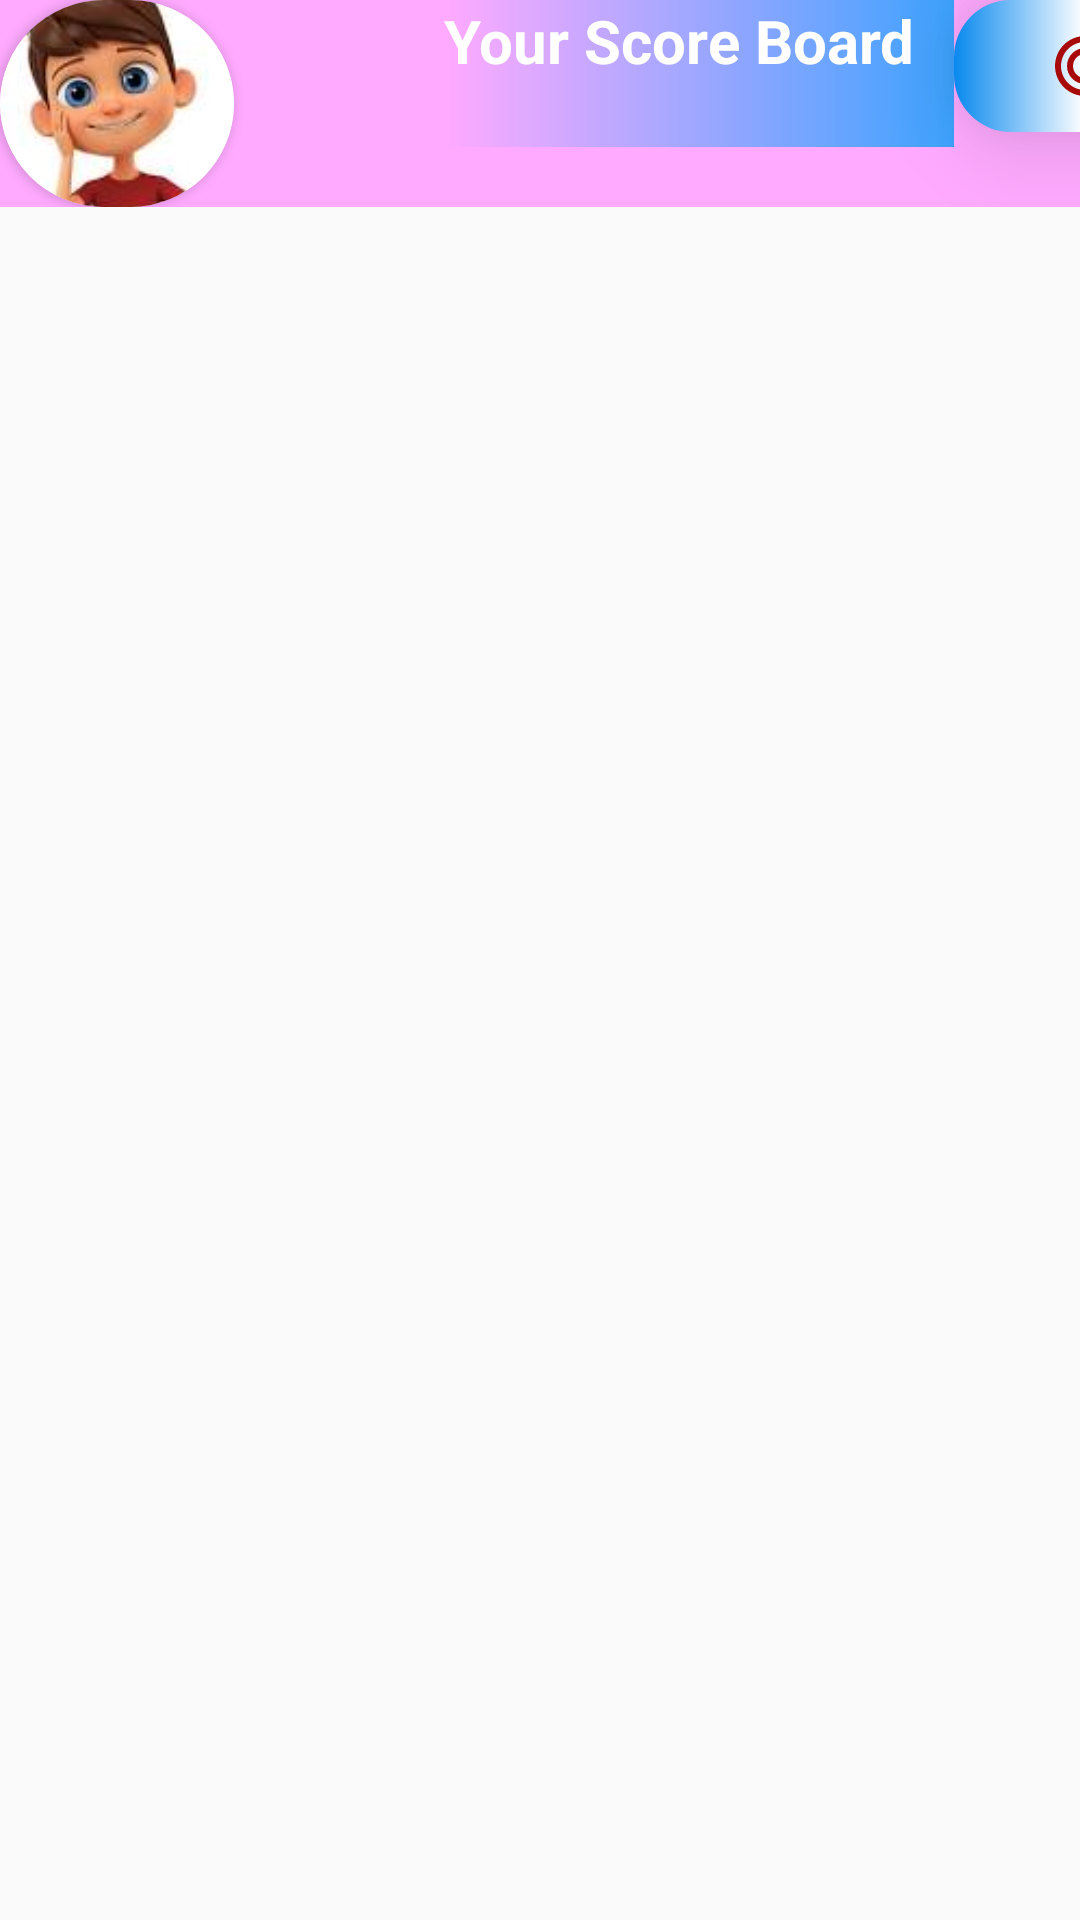

Where to tap for icons on this 1080 x 1920 app screen, as point (x, y):
kid: point (117, 103)
